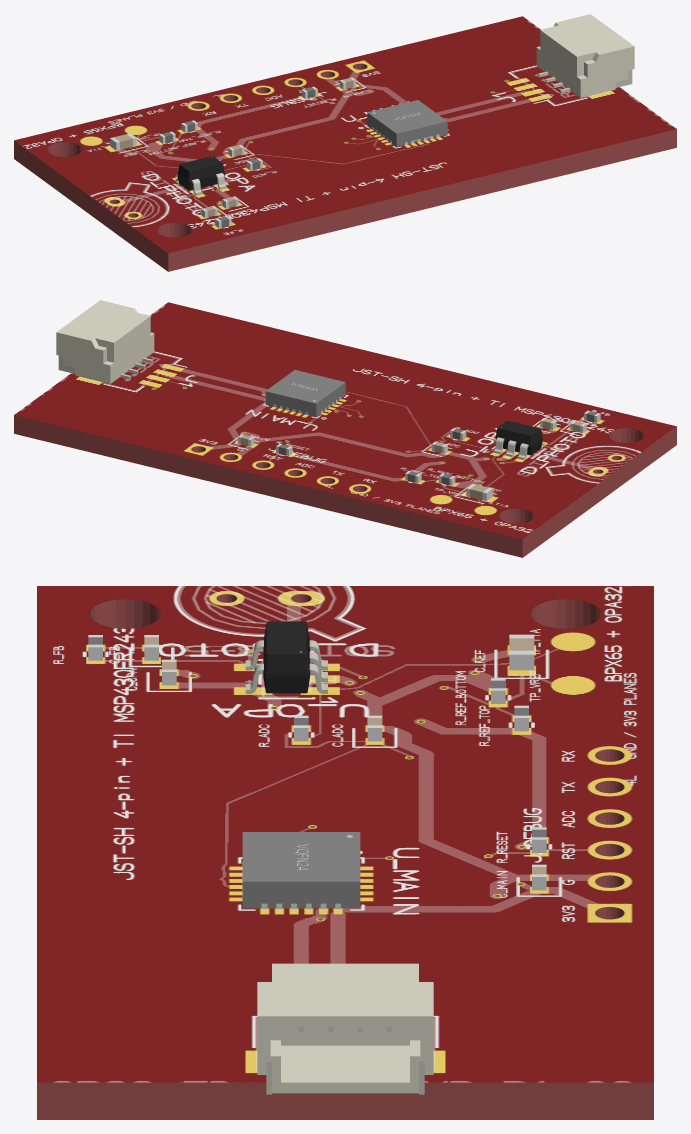
The picture shows the model from 3 angles, top to bottom: view 1: azimuth 30°, elevation 25°; view 2: azimuth 150°, elevation 25°; view 3: azimuth 270°, elevation 25°; orthographic projection. The views are drawn at different scales.
Visible parts, largest first — view 1: Box0, J1, U_MAIN, U_OPA; view 2: Box0, J1, U_MAIN, U_OPA; view 3: Box0, J1, U_MAIN, U_OPA, C_REF.
Part boxes in pixels (box(x1,y1,x2,y2)): Box0: box(14, 16, 676, 271); J1: box(536, 14, 634, 97); U_MAIN: box(367, 100, 447, 146); U_OPA: box(175, 156, 226, 195); Box0: box(14, 302, 676, 557); J1: box(56, 300, 154, 383); U_MAIN: box(265, 370, 345, 416); U_OPA: box(493, 420, 544, 459); Box0: box(37, 586, 653, 1119); J1: box(257, 963, 433, 1094); U_MAIN: box(242, 832, 360, 908); U_OPA: box(245, 621, 327, 693); C_REF: box(509, 634, 534, 670).
Size of the model in its own units: 41 by 4.36 by 21.
Materials: 15 (2 with a texture image).
